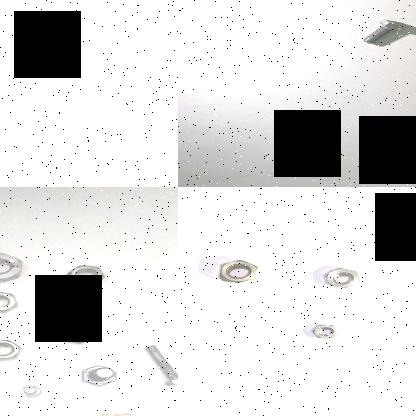Bolts: (141, 337, 178, 393), (72, 360, 127, 388), (357, 17, 401, 44), (18, 380, 47, 402), (81, 407, 151, 416)
NUTS: (53, 316, 103, 350), (214, 256, 261, 284), (60, 263, 108, 290), (320, 266, 362, 288), (0, 250, 26, 283), (0, 333, 29, 361), (304, 322, 342, 342), (12, 27, 46, 45), (0, 288, 22, 315)
